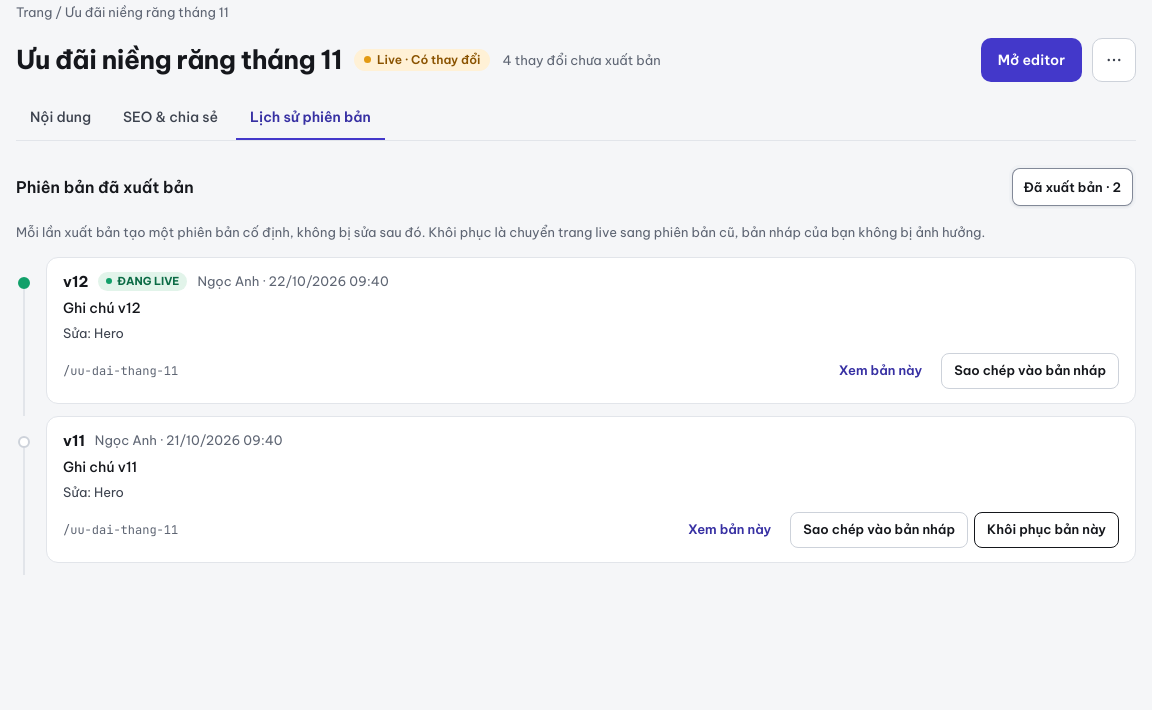
it: HistoryScreen › rolls back, shows the banner and undoes the rollback
Click the button "Khôi phục bản này" at (1047, 530), box [974,512,1119,548]
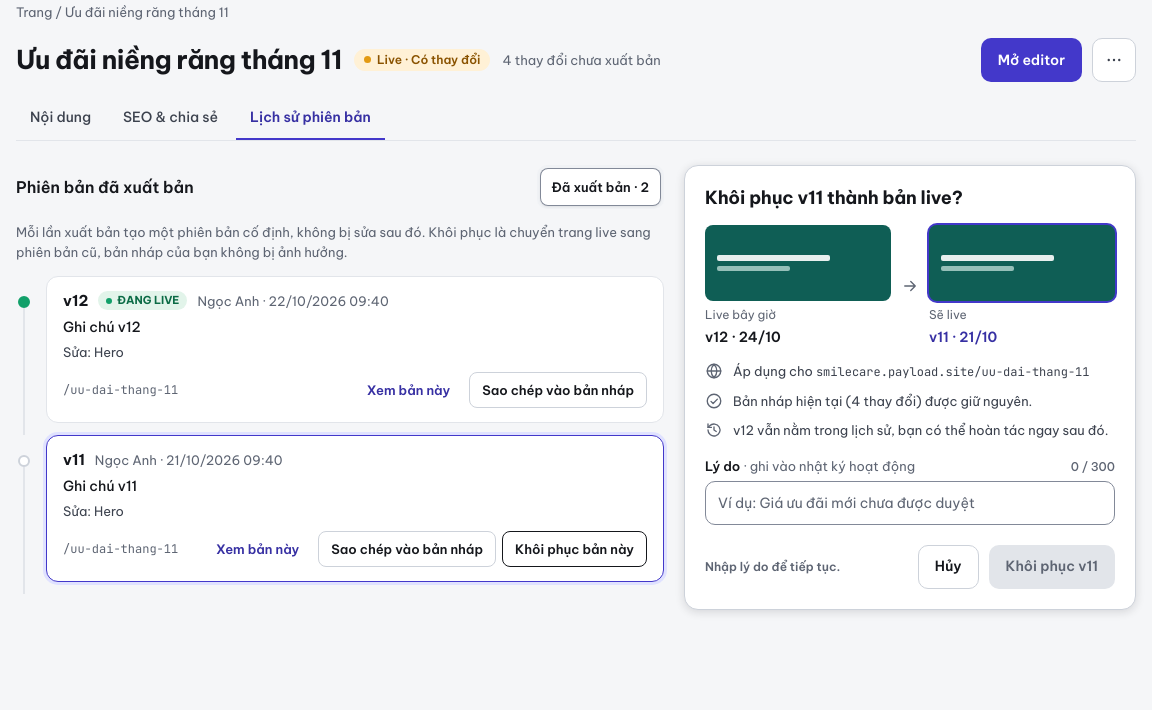
Type "Giá mới chưa duyệt" into the field labelled "Lý do · ghi vào nhật ký hoạt động" at (910, 503), box [706,482,1114,524]
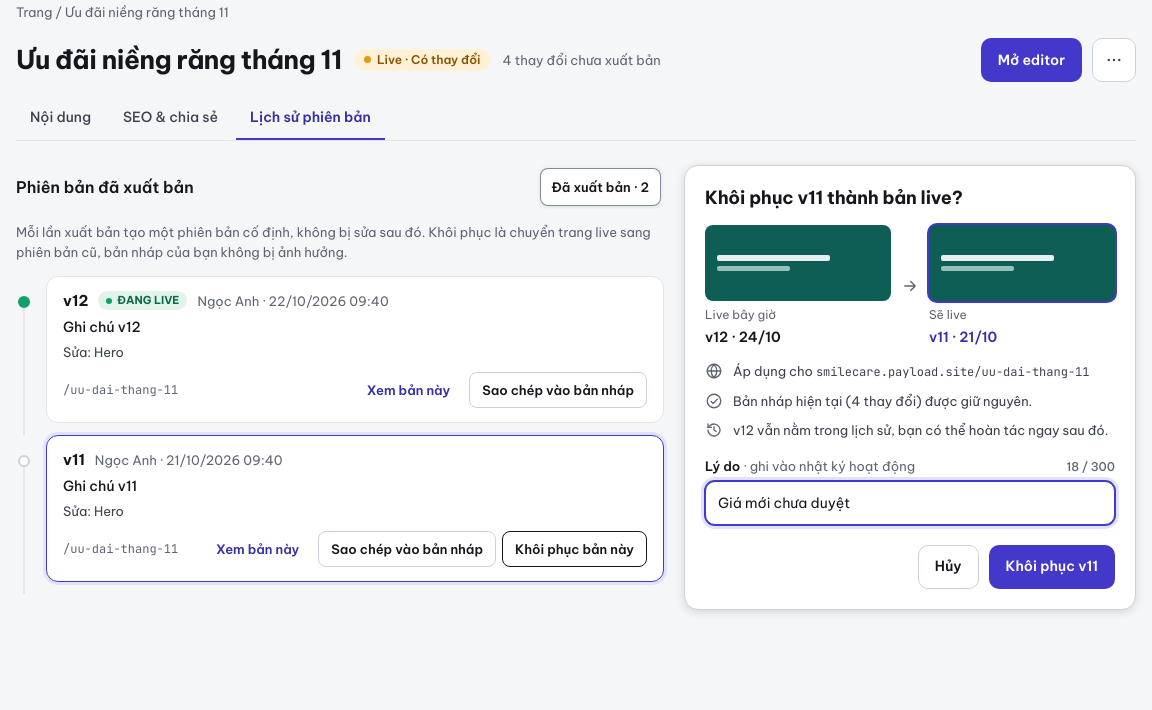
Click the button "Khôi phục v11" at (1052, 567), box [989,545,1115,589]
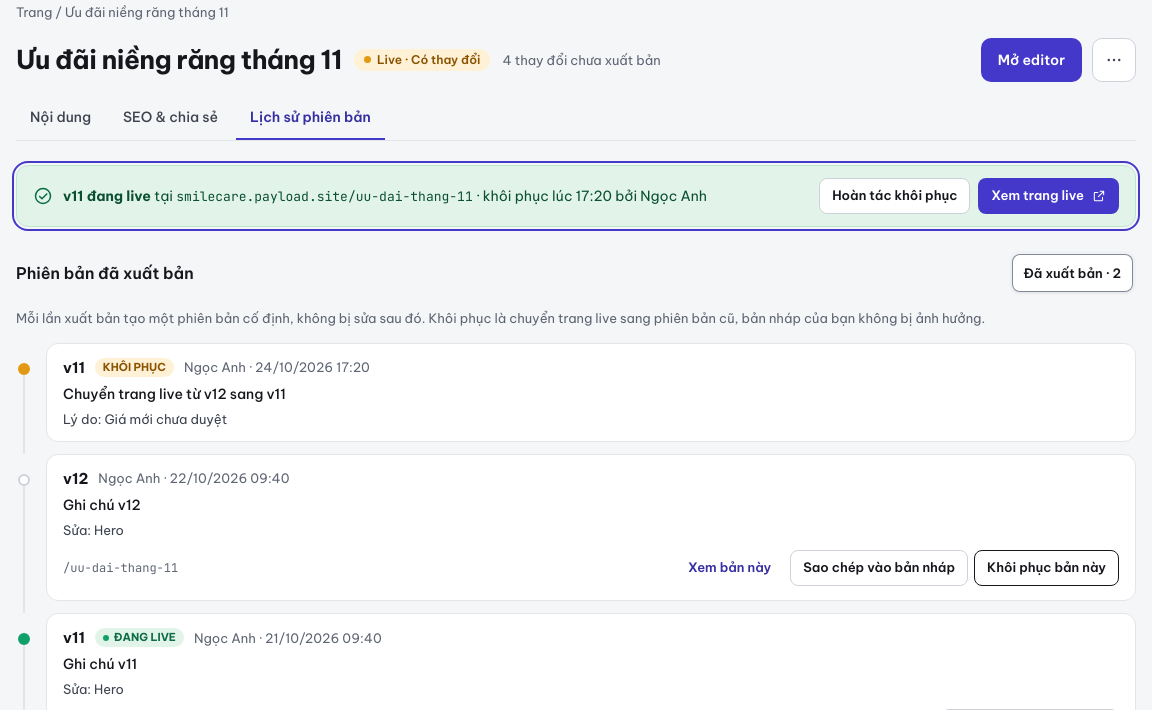
Expected: the text "ĐANG LIVE" is shown, [95,628,184,647]
Result: the message shows "v11 đang live tại smilecare.payload.site/uu-dai-thang-11 · khôi phục lúc 17:20 bởi Ngọc Anh" at [16,165,1136,227]
Result: the heading "Khôi phục v" is gone
Click the button "Hoàn tác khôi phục" at (895, 196), box [819,178,970,214]
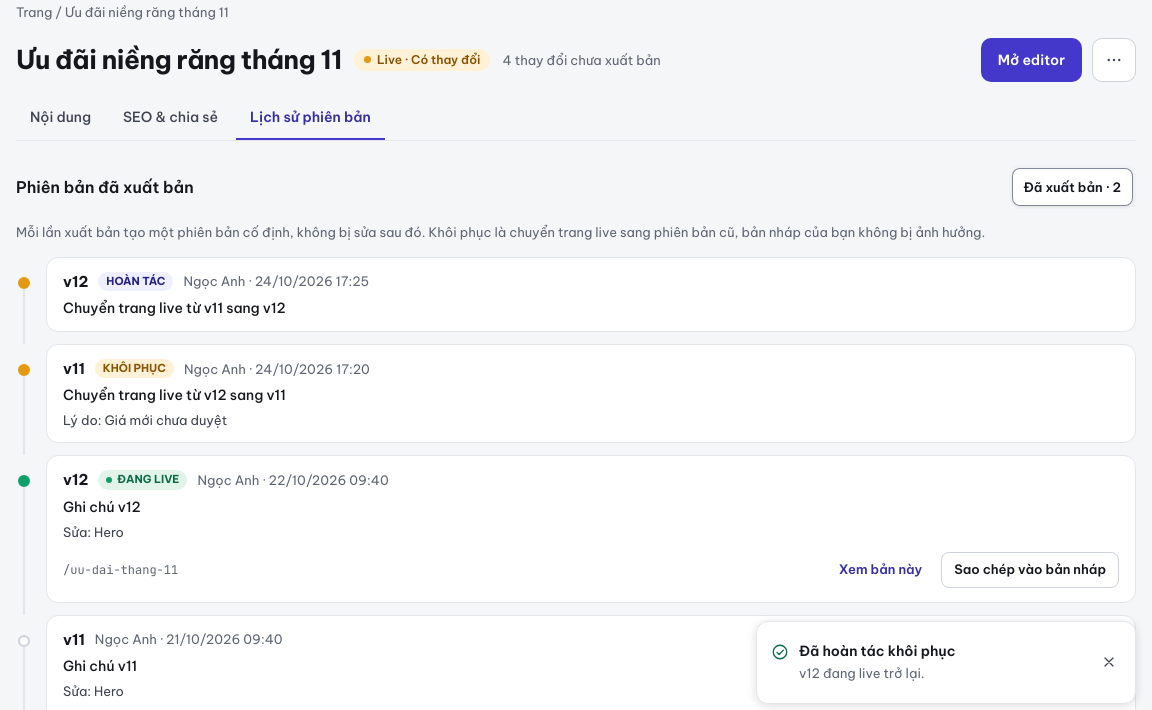
Result: the text "Đã hoàn tác khôi phục" is shown at [799,642,955,660]
Result: the text "v12 đang live trở lại." is shown at [799,664,924,680]
Result: the text "HOÀN TÁC" is shown at [98,272,173,291]
